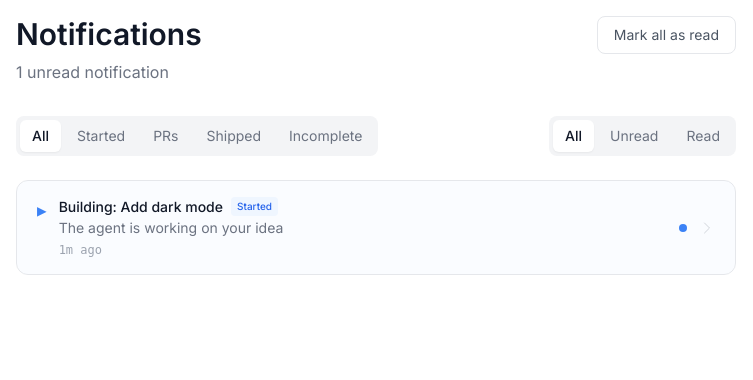
Test: NotificationsPage › Clear filters › resets both type and read filters when Clear filters is clicked
The width and height of the screenshot is (753, 380).
Expected: the text "Building: Add dark mode" is shown, [59,197,223,216]
// Apply PRs type filter — yields empty
Click the button "PRs" at (166, 136), box [141,120,190,152]
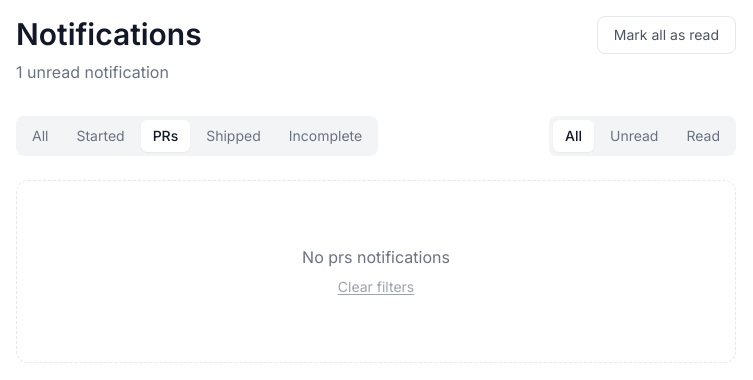
Expected: the button "Clear filters" is shown
// Click Clear filters
Click the button "Clear filters" at (376, 287), box [338,277,414,297]
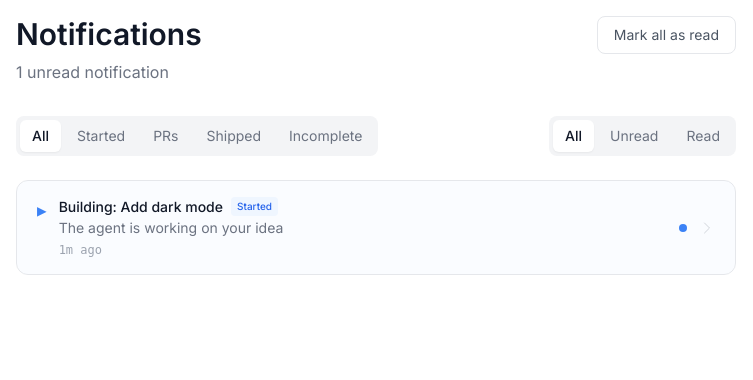
Expected: the text "Building: Add dark mode" is shown, [59,197,223,216]
